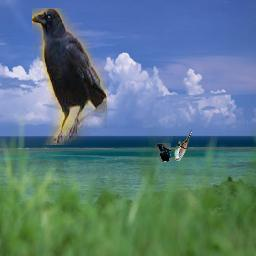Crow: (33, 9, 108, 146), (155, 144, 171, 163)
Cuckoo: (174, 129, 192, 162)
